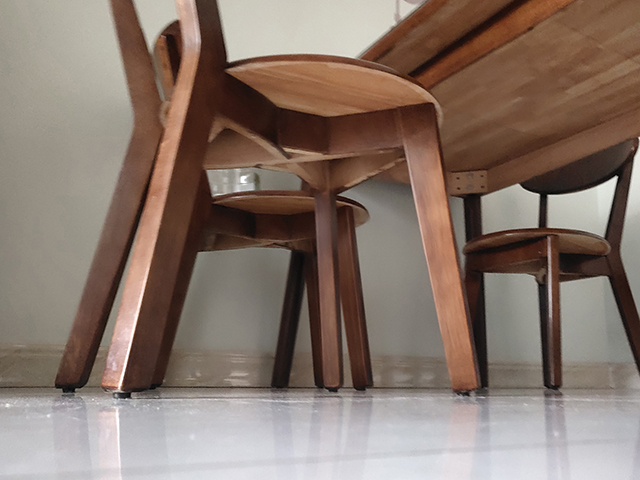stool: (51, 1, 483, 401), (459, 134, 640, 392)
table: (302, 1, 640, 390)
